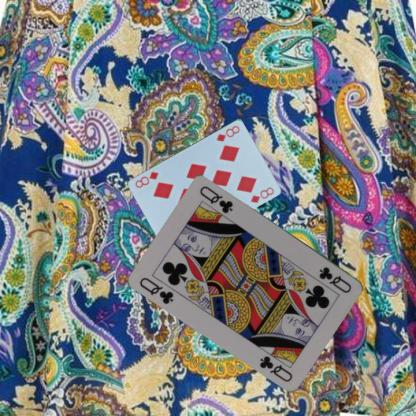8d: (214, 122, 241, 142)
Qc: (137, 274, 175, 306), (316, 263, 354, 294)
